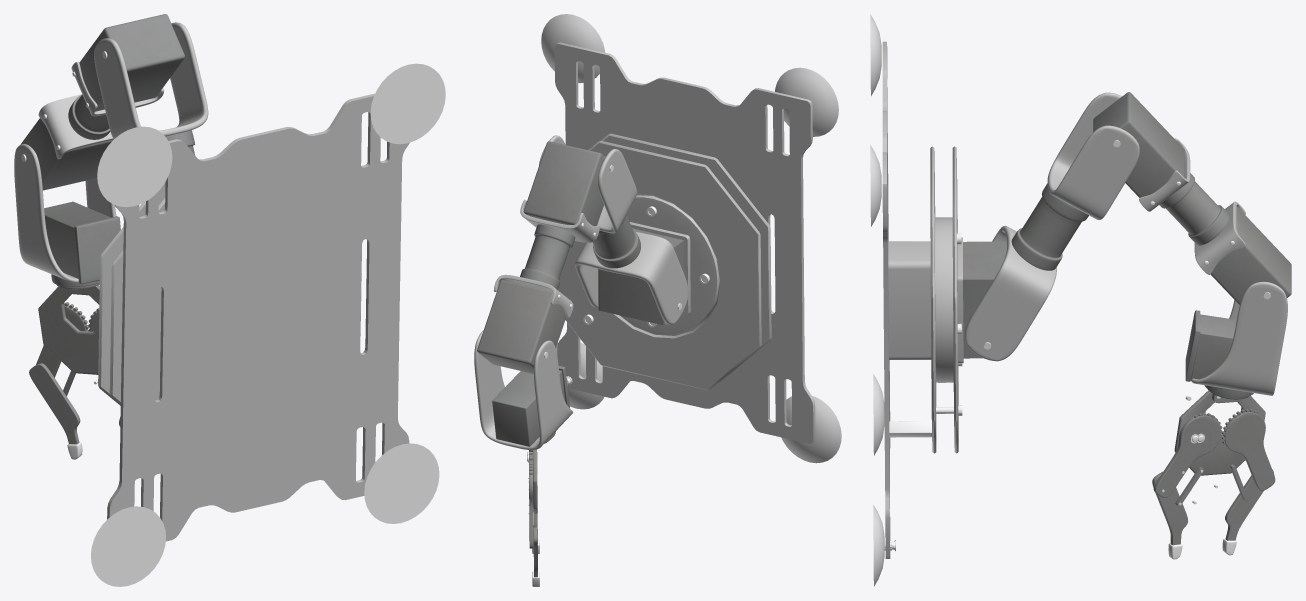
File: arm.obj
3 renders of one model, left to right at view 1: azimuth 30°, elevation 25°; view 2: azimuth 150°, elevation 25°; view 3: azimuth 270°, elevation 25°, orthographic. The views are drawn at different scales.
Parts seen in each view (by area): view 1: Plane.002, Cone, Plane.004, Cube.004, Plane.007, Cube.006, Plane.011, Cube.005, Plane.001, Plane, Plane.006, Plane.009 (+3 smaller); view 2: Plane.002, Plane, Cone, Cube.005, Cube.004, Cylinder.001, Plane.003, Plane.007, Plane.001, Cube.006, Cube.002, Plane.004 (+5 smaller); view 3: Plane.004, Plane.003, Plane.007, Cube, Plane.008, Cube.004, Cube.005, Cylinder.007, Cylinder.001, Plane.002, Cone, Cube.002 (+10 smaller).
Part boxes in pixels (bbox=[...]): Plane.002: bbox=[107, 93, 409, 541]; Cone: bbox=[91, 63, 445, 586]; Plane.004: bbox=[94, 22, 208, 138]; Cube.004: bbox=[79, 14, 184, 111]; Plane.007: bbox=[14, 144, 116, 283]; Cube.006: bbox=[44, 201, 120, 284]; Plane.011: bbox=[38, 285, 99, 374]; Cube.005: bbox=[20, 118, 112, 190]; Plane.001: bbox=[109, 198, 361, 404]; Plane: bbox=[98, 182, 165, 405]; Plane.006: bbox=[38, 94, 113, 159]; Plane.009: bbox=[29, 363, 120, 444]; Plane.002: bbox=[554, 42, 815, 443]; Plane: bbox=[558, 141, 761, 389]; Cone: bbox=[541, 14, 841, 463]; Cube.005: bbox=[477, 280, 566, 373]; Cube.004: bbox=[523, 141, 605, 226]; Cylinder.001: bbox=[621, 195, 719, 334]; Plane.003: bbox=[575, 232, 688, 324]; Plane.007: bbox=[474, 330, 573, 450]; Plane.001: bbox=[600, 133, 771, 382]; Cube.006: bbox=[492, 366, 569, 446]; Cube.002: bbox=[598, 228, 684, 325]; Plane.004: bbox=[539, 135, 637, 233]; Plane.004: bbox=[1047, 92, 1139, 219]; Plane.003: bbox=[964, 225, 1056, 361]; Plane.007: bbox=[1191, 281, 1287, 395]; Cube: bbox=[888, 241, 931, 359]; Plane.008: bbox=[1153, 411, 1275, 497]; Cube.004: bbox=[1093, 92, 1184, 197]; Cube.005: bbox=[1210, 206, 1291, 304]; Cylinder.007: bbox=[1011, 183, 1088, 270]; Cylinder.001: bbox=[935, 217, 957, 382]; Plane.002: bbox=[882, 41, 890, 558]; Cone: bbox=[870, 14, 884, 586]; Cube.002: bbox=[963, 241, 1006, 358].
Bounding box in the file's own units: 0.7861 × 1.06 × 0.8515.
